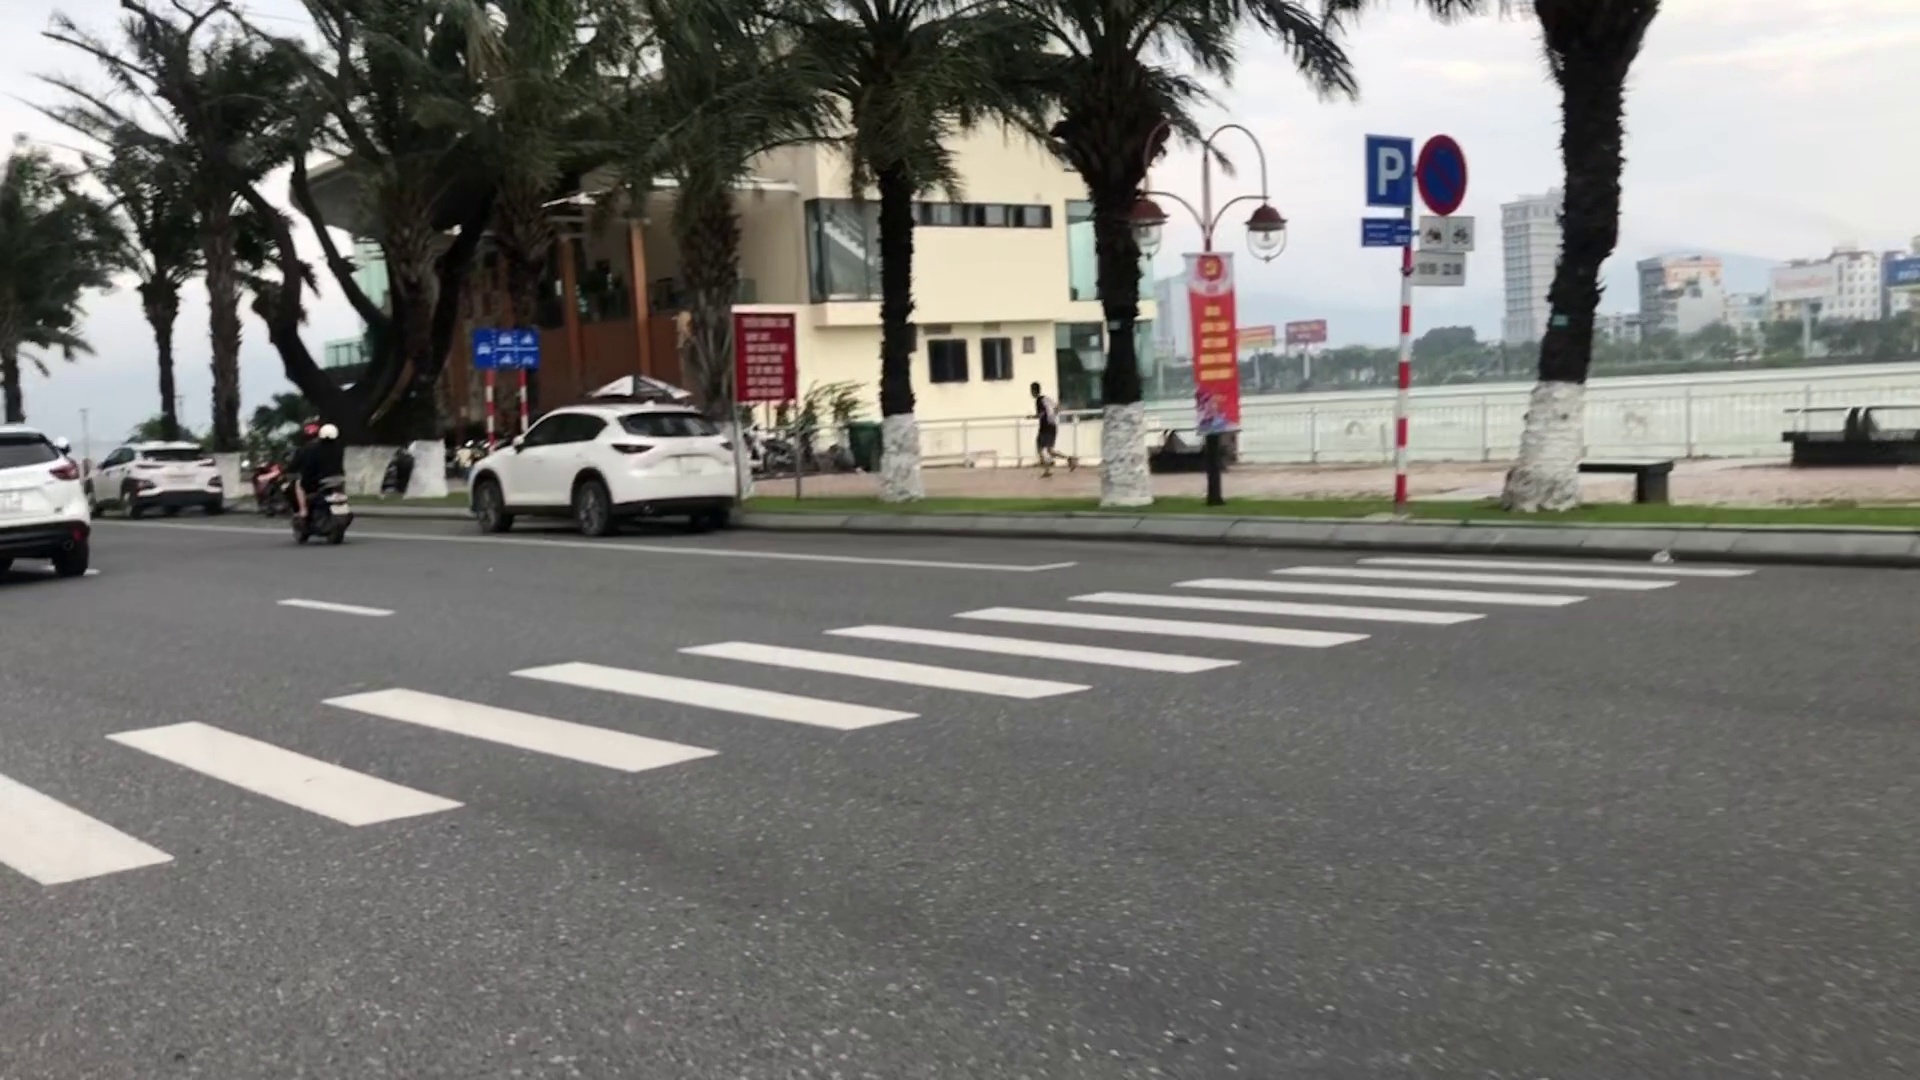Bien khac: (1364, 131, 1410, 208)
Cam do xe: (1418, 131, 1466, 216)
